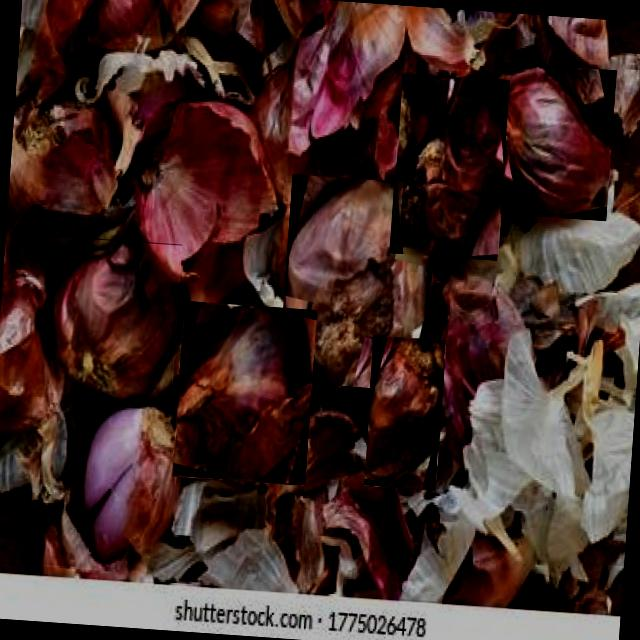rotten: (289, 179, 426, 386), (177, 307, 311, 479), (56, 241, 176, 397), (488, 67, 611, 216), (402, 78, 503, 257), (365, 340, 442, 482)
